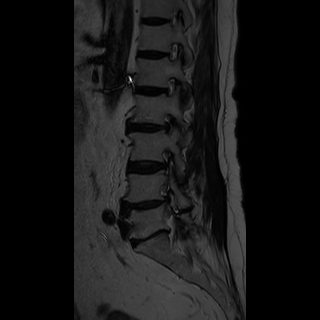LFS0: (159, 71, 179, 104)
LFS3: (155, 107, 178, 141)
